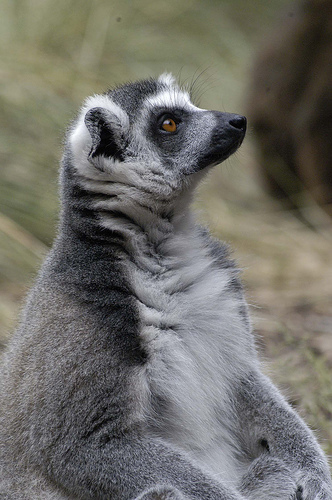cat: (0, 62, 330, 498)
